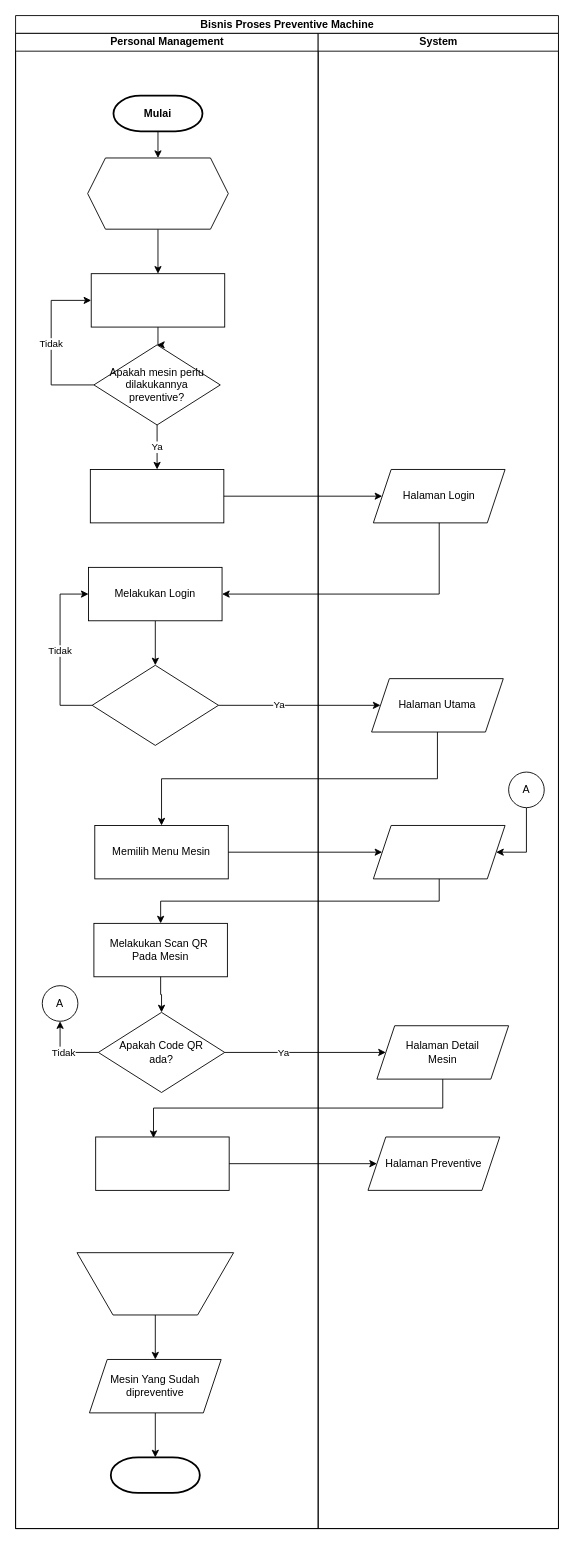
This 574x1544 diagram has some shape labels left out. Each missing label, with the box of its shape:
Apakah NPK dan Password sudah benar?: (91, 664, 218, 745)
Halaman Scan QR: (372, 825, 505, 879)
Melakukan Job List (Item Check): (90, 273, 225, 327)
Melakukan Preventive Machine: (76, 1252, 234, 1315)
Membuka Aplikasi: (89, 469, 224, 523)
Memilih Menu Preventive: (95, 1136, 229, 1190)
Proses ini dimulai ketika personal management ingin melakukan preventive machine: (87, 157, 228, 229)
Selesai: (109, 1456, 200, 1493)
